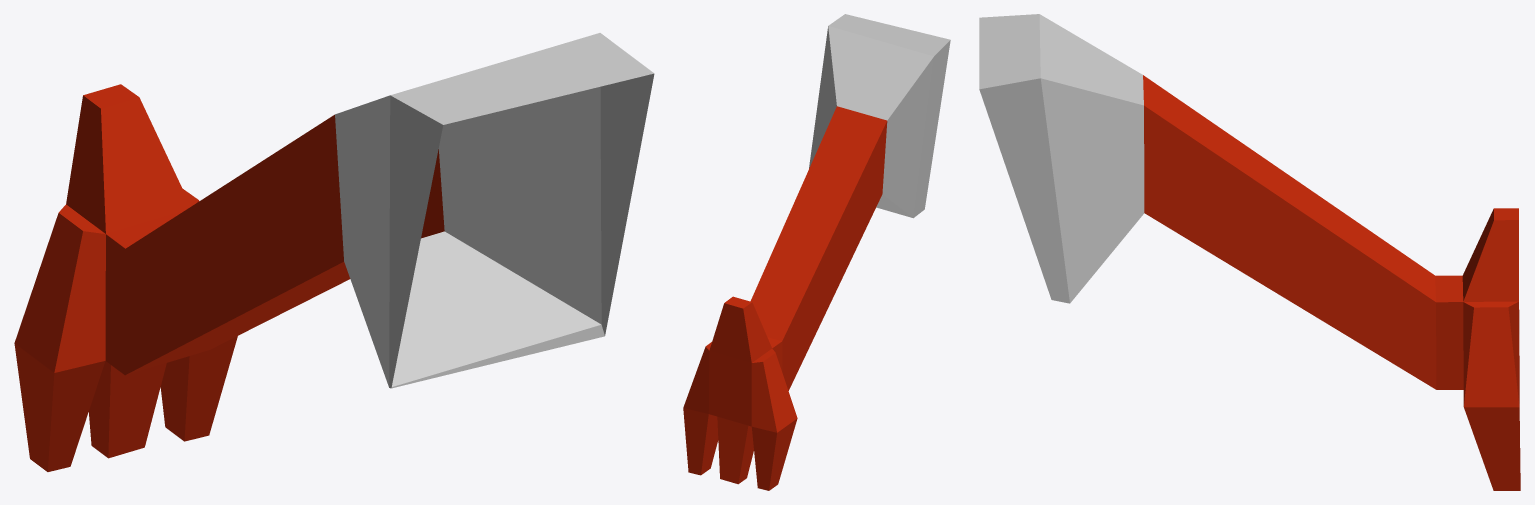
The model's file is patader.obj.
3 views of the same model, side by side, from view 1: azimuth 30°, elevation 25°; view 2: azimuth 150°, elevation 25°; view 3: azimuth 270°, elevation 25° (orthographic). The views are drawn at different scales.
Visible parts, largest first — view 1: CHİCKEN; view 2: CHİCKEN; view 3: CHİCKEN.
Part boxes in pixels (x1,y1,x2,y2): CHİCKEN: (14,33,654,471); CHİCKEN: (683,14,950,490); CHİCKEN: (979,14,1520,490).
Size of the model in its own units: 0.2418 by 0.5454 by 0.6152.
